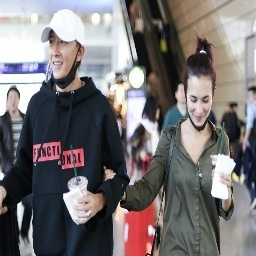noWear: (48, 33, 84, 88), (183, 85, 213, 132), (7, 91, 20, 112), (175, 85, 186, 103), (247, 91, 256, 102)
